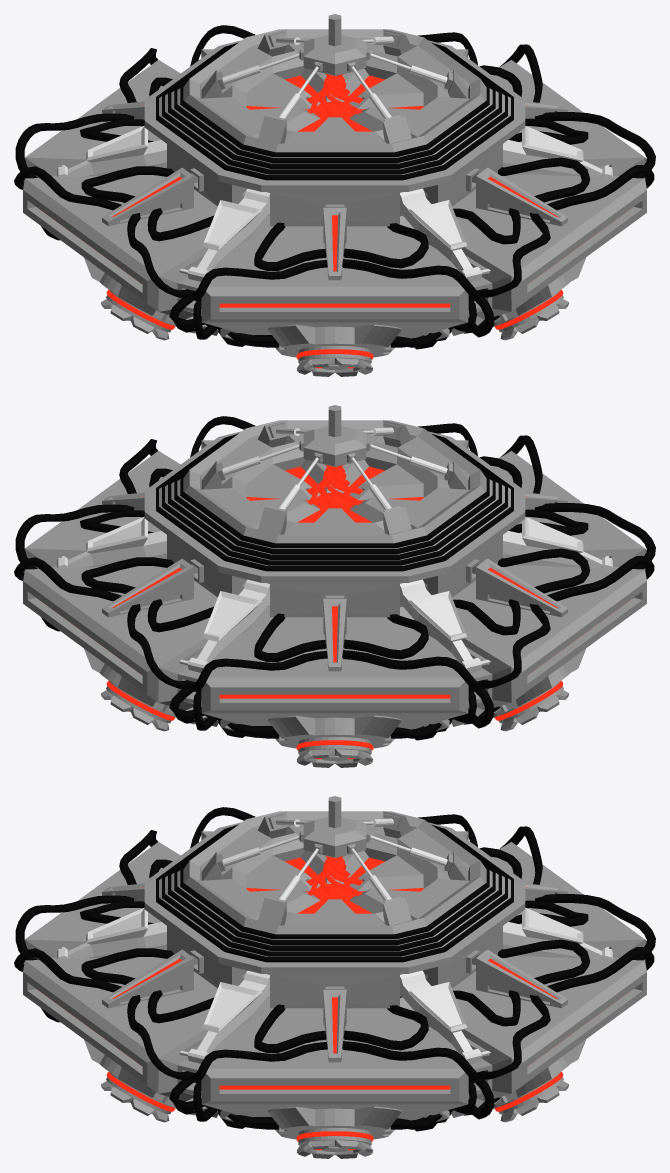
Rendered from GunTower.fbx.
3 renders of one model, top to bottom at view 1: azimuth 30°, elevation 25°; view 2: azimuth 150°, elevation 25°; view 3: azimuth 270°, elevation 25°, orthographic.
Visible parts, largest first — view 1: Base, Top, Cables, Boosters, Joint.005, Joint, Joint.003, Joint.002; view 2: Base, Top, Cables, Boosters, Joint.001, Joint.003, Joint.004, Joint.005; view 3: Base, Top, Cables, Boosters, Joint.002, Joint.004, Joint, Joint.001.
Part boxes in pixels (x1,y1,x2,y2): Base: (23, 49, 646, 339); Top: (144, 14, 525, 226); Cables: (14, 25, 655, 349); Boosters: (84, 257, 585, 376); Joint.005: (179, 188, 269, 282); Joint: (400, 188, 490, 281); Joint.003: (57, 125, 166, 177); Joint.002: (503, 125, 612, 177); Base: (23, 440, 646, 730); Top: (144, 405, 525, 617); Cables: (14, 416, 655, 740); Boosters: (84, 648, 585, 767); Joint.001: (179, 579, 269, 673); Joint.003: (400, 579, 490, 672); Joint.004: (57, 516, 166, 568); Joint.005: (503, 516, 612, 568); Base: (23, 831, 646, 1121); Top: (144, 796, 525, 1008); Cables: (14, 807, 655, 1131); Boosters: (84, 1039, 585, 1158); Joint.002: (179, 970, 269, 1064); Joint.004: (400, 970, 490, 1063); Joint: (57, 907, 166, 959); Joint.001: (503, 907, 612, 959).
Bounding box in the file's own units: 541 × 280 × 594.
